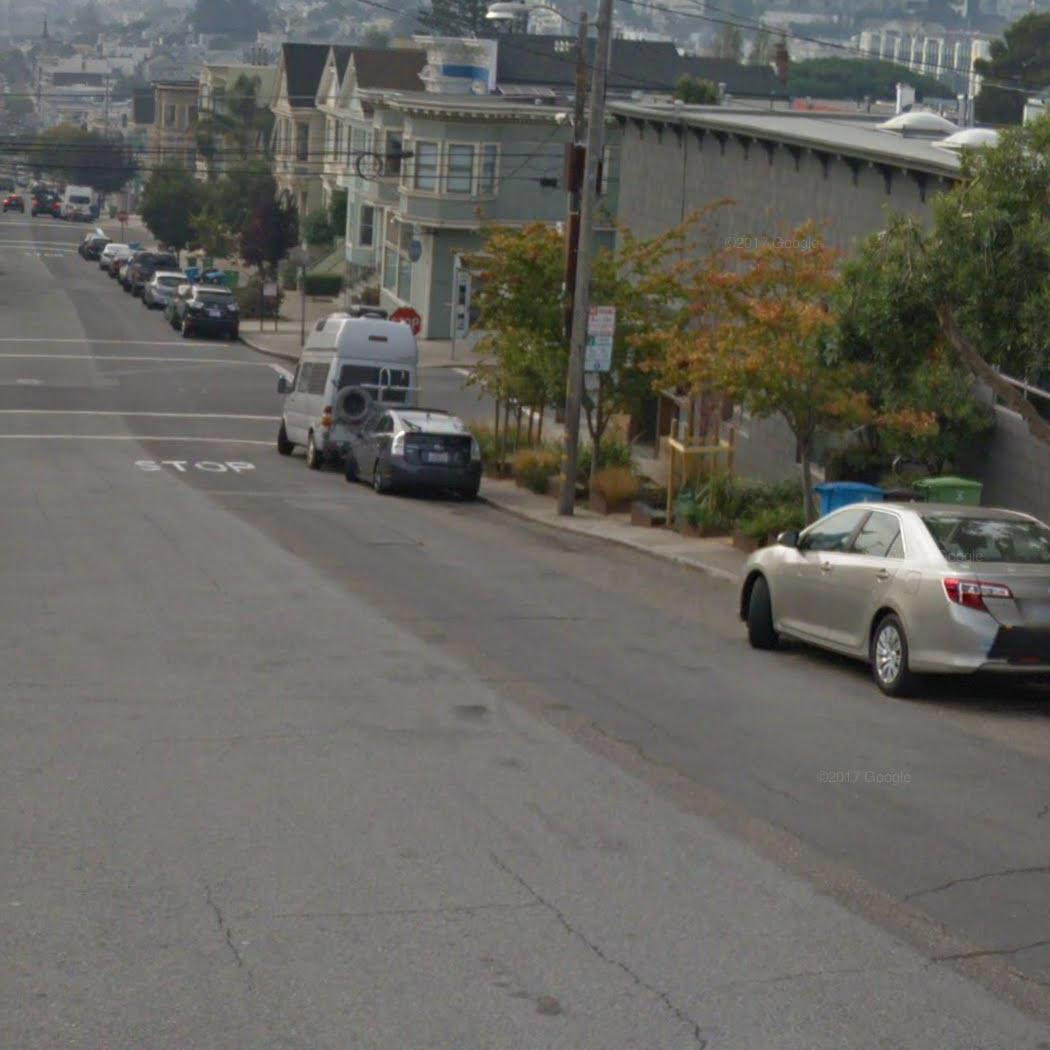2 Hour Parking: (579, 336, 617, 372)
No Parking: (585, 303, 619, 339)
